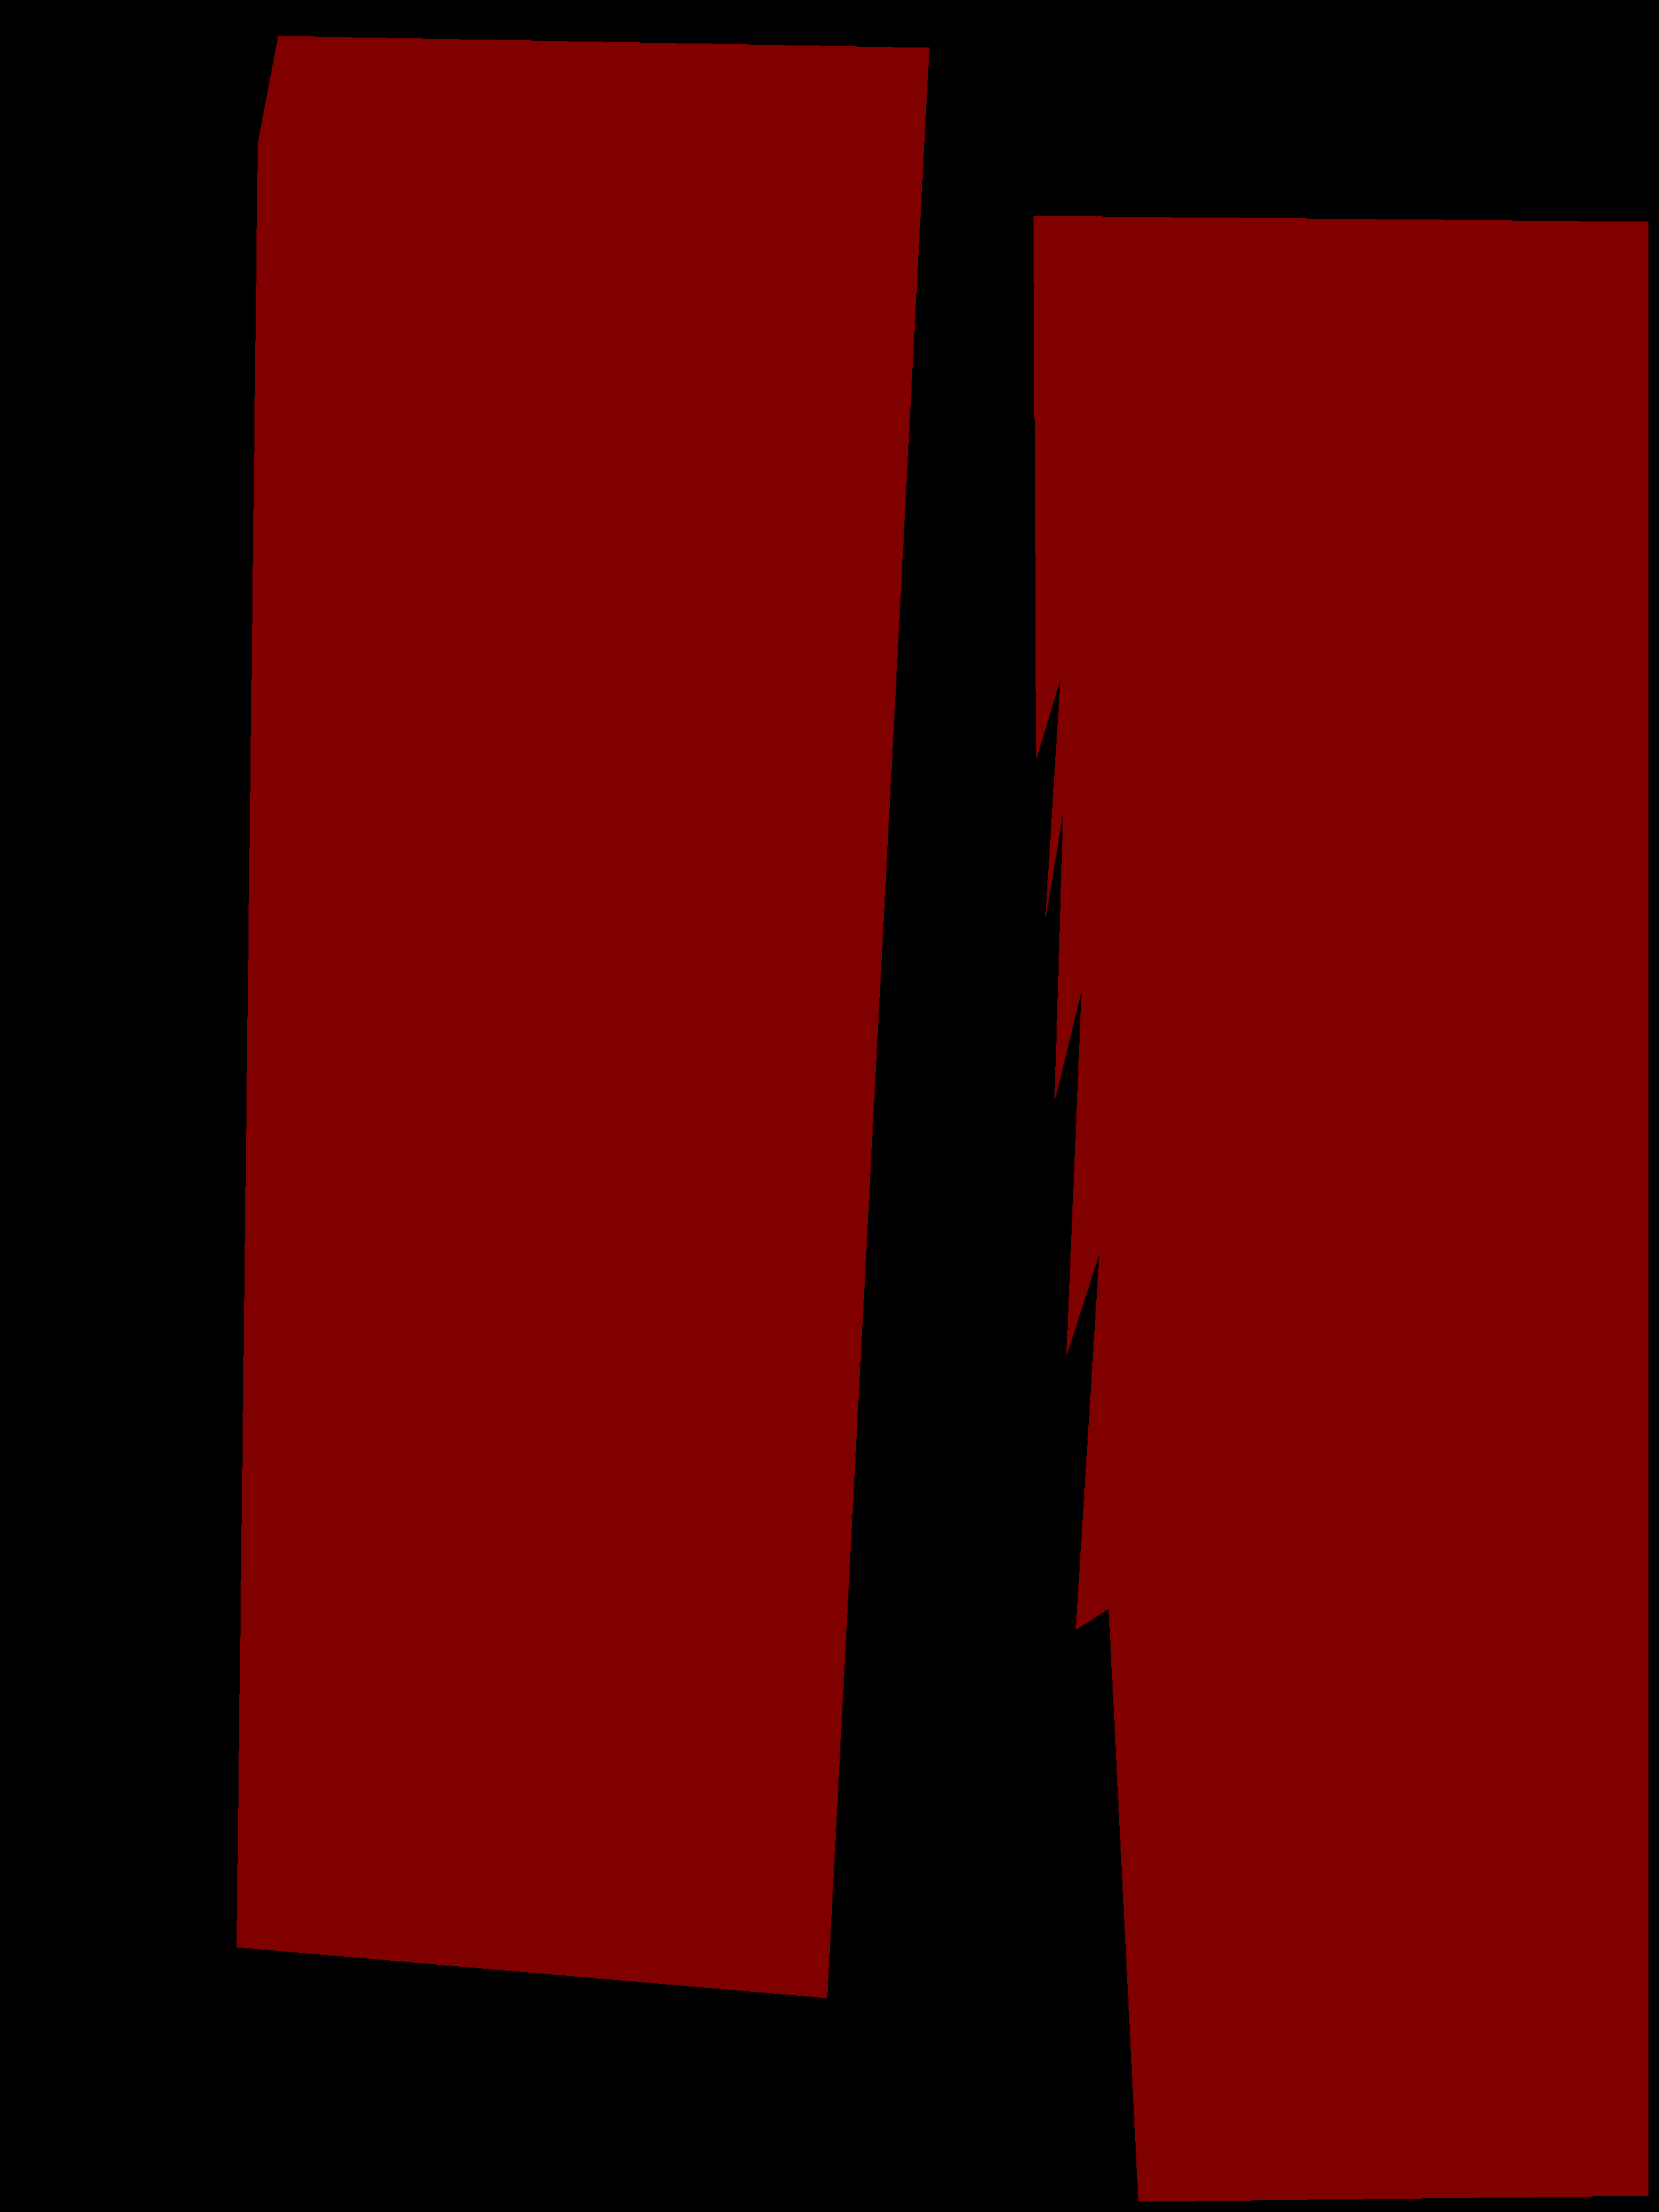stair: (237, 35, 929, 1998), (1033, 216, 1649, 2202)
